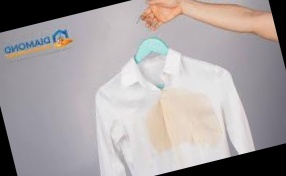coffee: (147, 94, 213, 149)
